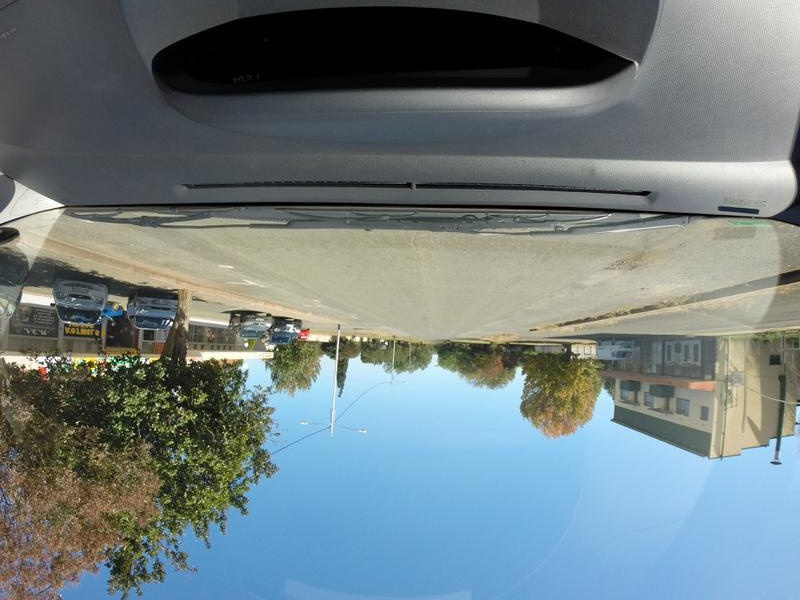pothole: (599, 247, 648, 275)
